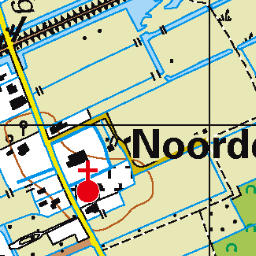church: (73, 158, 102, 205)
